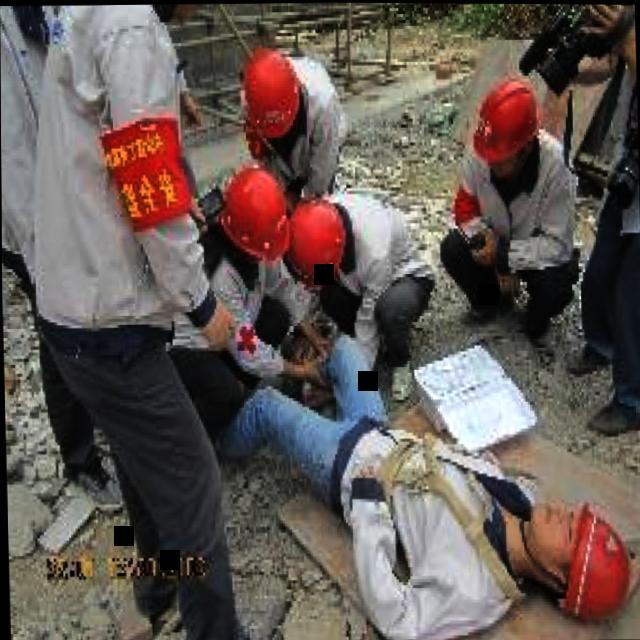Fall-Detected: (195, 292, 629, 640)
